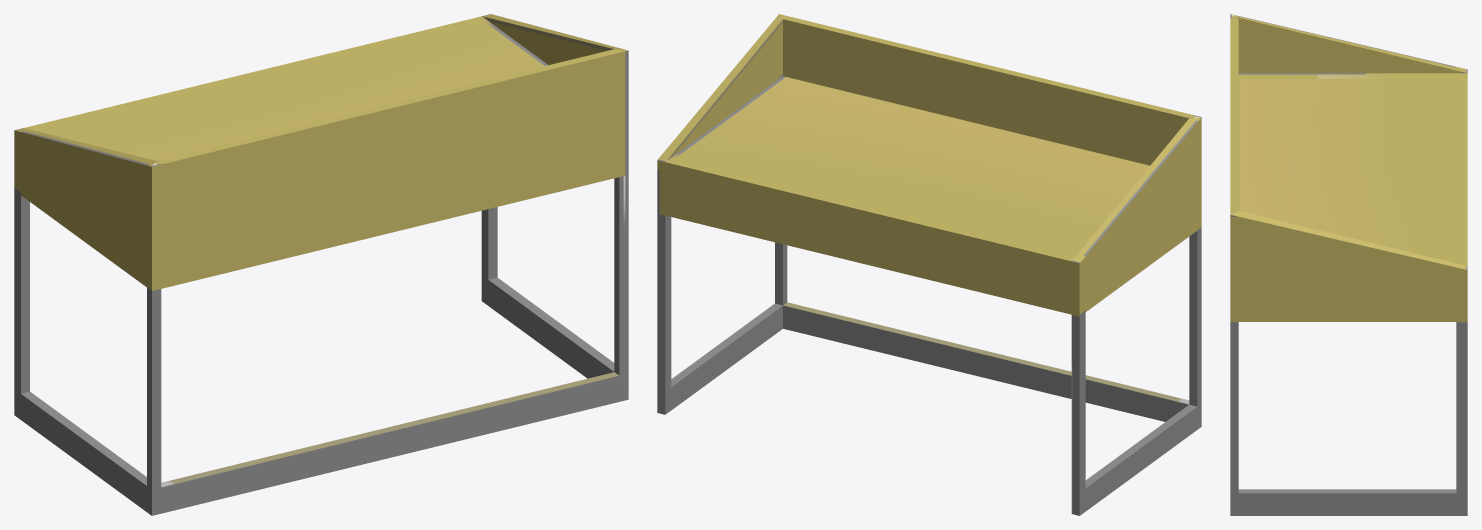
The model's file is table.fbx.
3 renders of one model, left to right at view 1: azimuth 30°, elevation 25°; view 2: azimuth 150°, elevation 25°; view 3: azimuth 270°, elevation 25°, orthographic. The views are drawn at different scales.
Visible parts, largest first — view 1: Cube; view 2: Cube; view 3: Cube.
Part boxes in pixels (x1=…): Cube: x1=14, y1=14, x2=628, y2=515; Cube: x1=657, y1=14, x2=1201, y2=515; Cube: x1=1230, y1=14, x2=1467, y2=515.
Size of the model in its own units: 1 by 0.7 by 0.5.
1 material, 1 textured.
